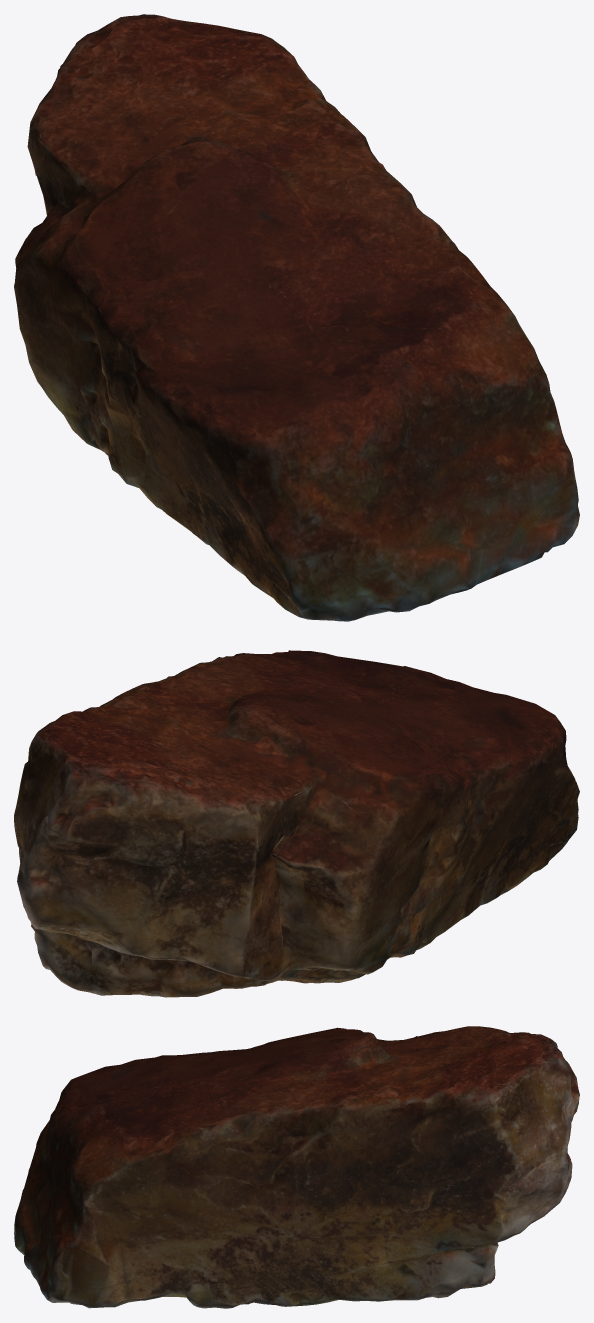
The model's file is rock_07.glb.
The picture shows the model from 3 angles, top to bottom: view 1: azimuth 30°, elevation 25°; view 2: azimuth 150°, elevation 25°; view 3: azimuth 270°, elevation 25°; orthographic projection. The views are drawn at different scales.
Parts seen in each view (by area): view 1: rock_07; view 2: rock_07; view 3: rock_07.
Part boxes in pixels (box(x1,y1,x2,y2)): rock_07: box(14, 14, 579, 621); rock_07: box(14, 650, 579, 997); rock_07: box(14, 1026, 579, 1308).
Size of the model in its own units: 0.169 by 0.1438 by 0.3203.
Materials: 1 (1 with a texture image).
